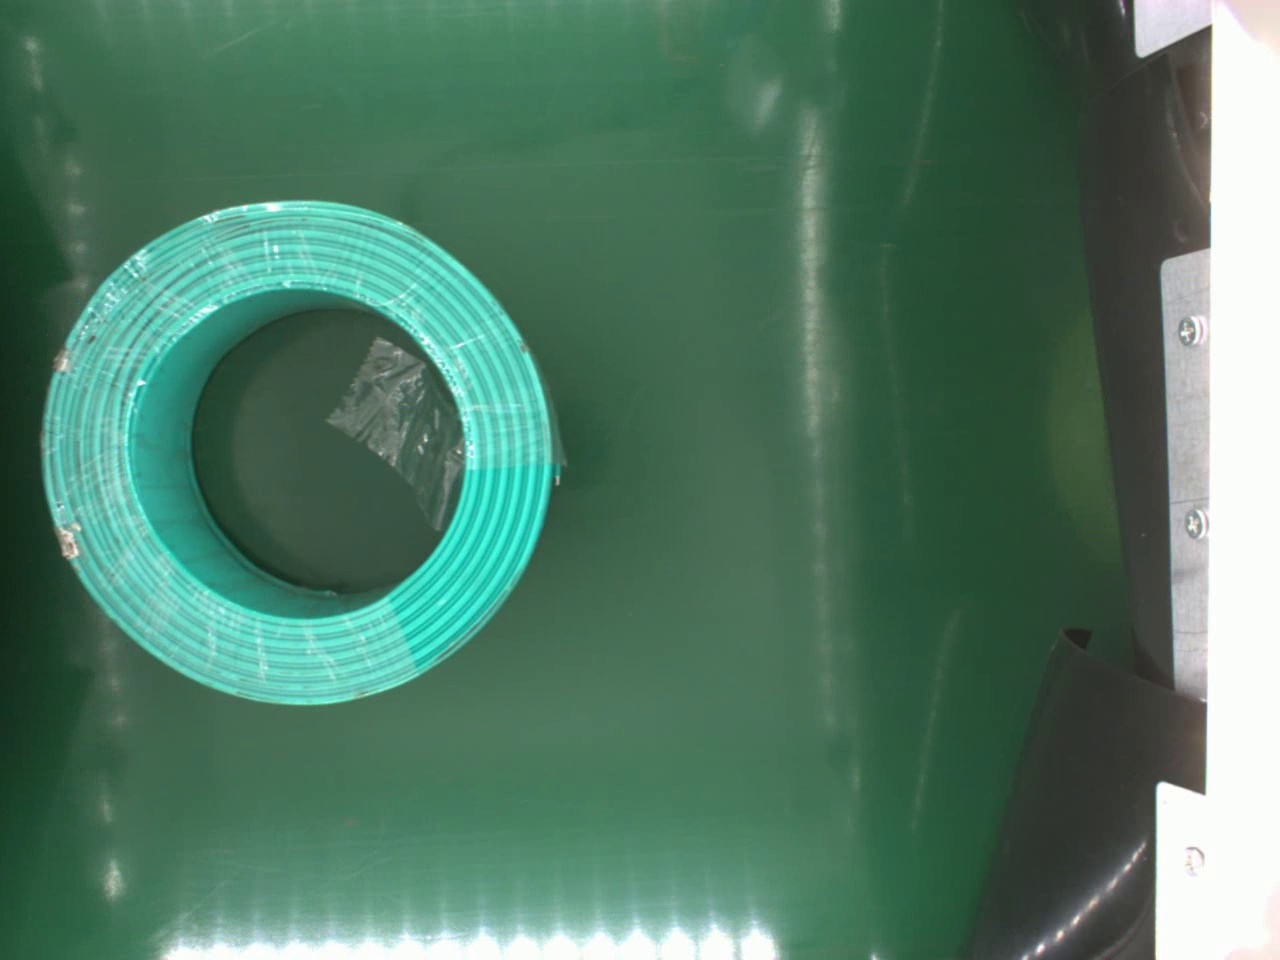green: (45, 198, 557, 702)
